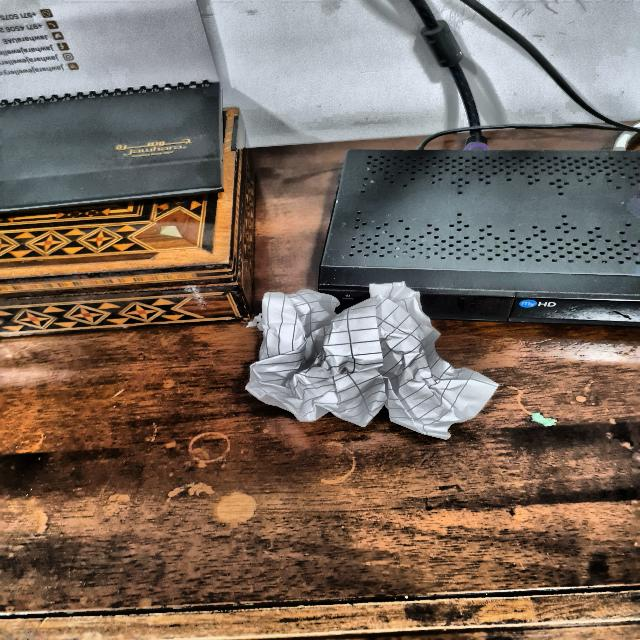Paper: (255, 280, 500, 445)
